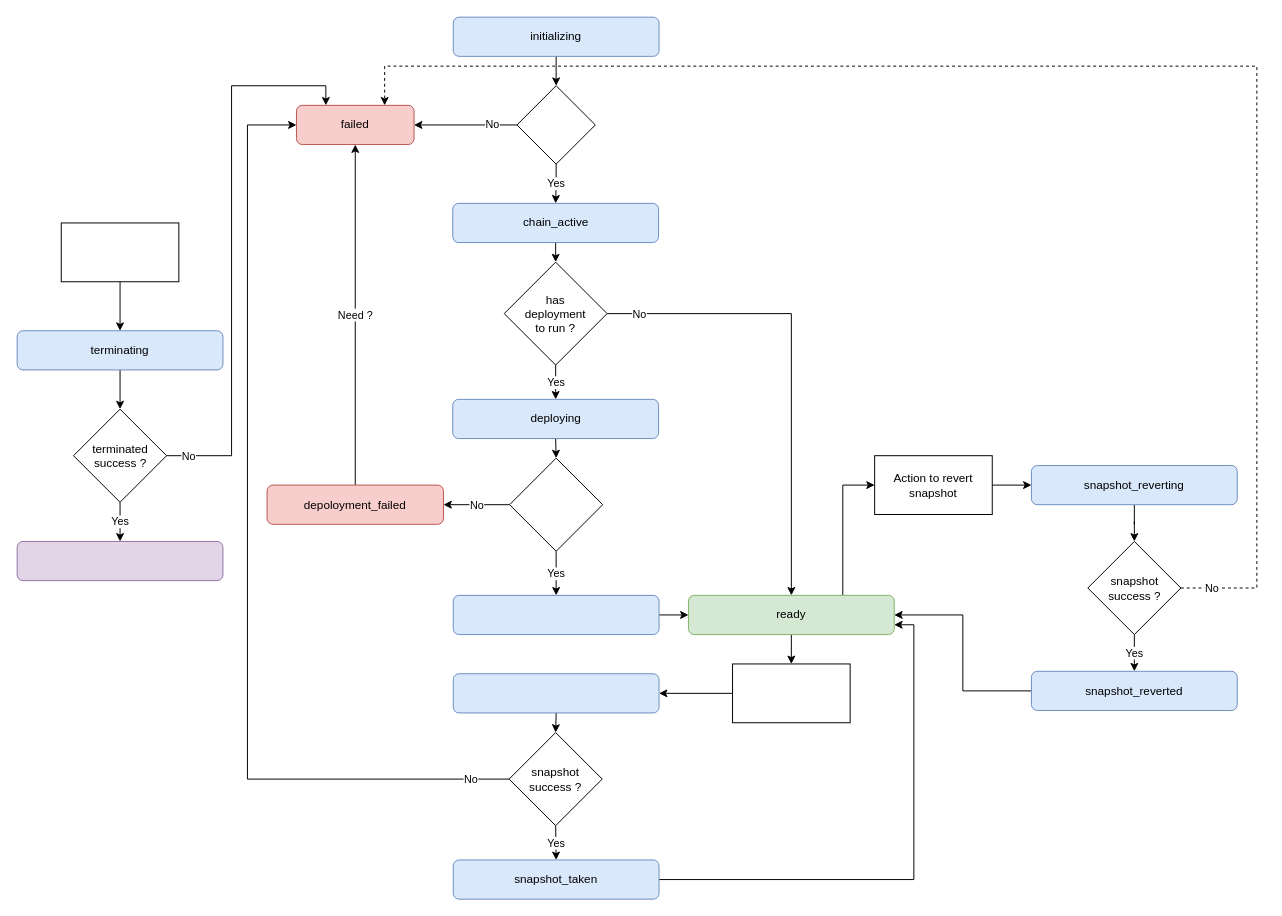
Some shapes in this 1282 by 916 pixel diagram are drawn without their labels. Here are the shapes that lost their labels. From the top down, the box of each, then its label:
(516, 85, 595, 164): Chain Started ?
(60, 222, 179, 282): Action terminate
(509, 457, 603, 551): deploy finished ?
(16, 540, 223, 581): terminated
(452, 594, 659, 635): deployment_success
(452, 673, 659, 713): snapshot_taking
(732, 663, 850, 723): Action to take snapshot
